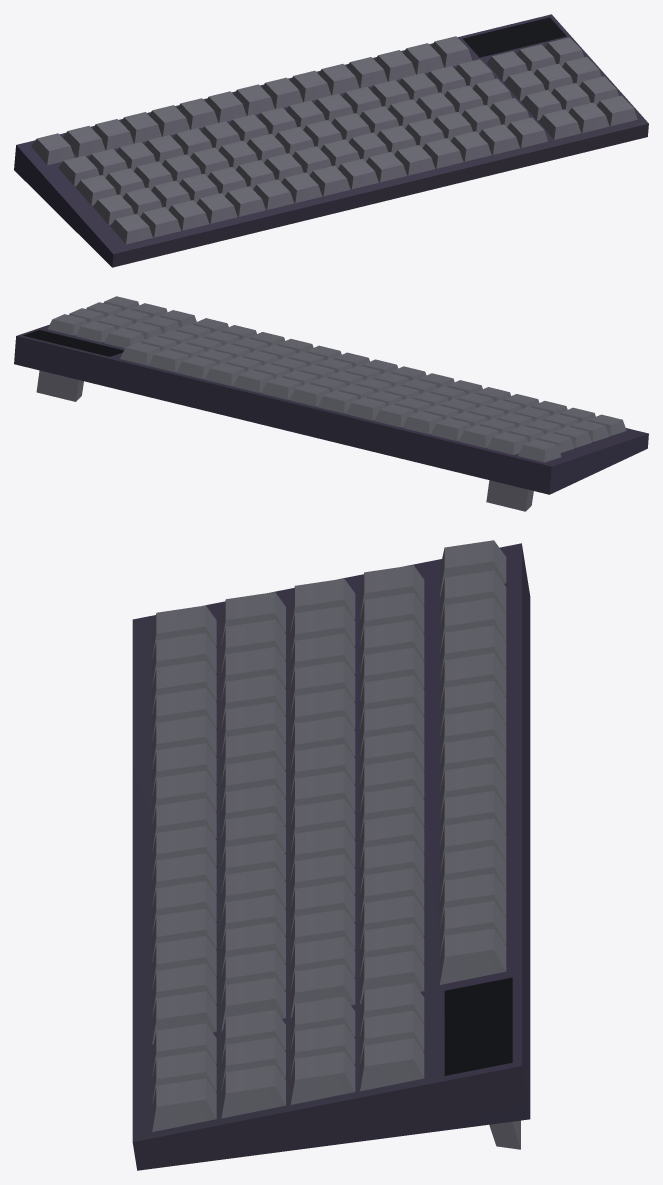
The model's file is keyboard.fbx.
3 renders of one model, top to bottom at view 1: azimuth 30°, elevation 25°; view 2: azimuth 150°, elevation 25°; view 3: azimuth 270°, elevation 25°, orthographic. The views are drawn at different scales.
Visible parts, largest first — view 1: Cube.011; view 2: Cube.011; view 3: Cube.011.
Boxes of the visible parts, x1,y1,x2,y2 form: Cube.011: [14, 14, 648, 267]; Cube.011: [14, 296, 648, 511]; Cube.011: [132, 540, 530, 1170].
Size of the model in its own units: 159 by 17.13 by 50.97.
